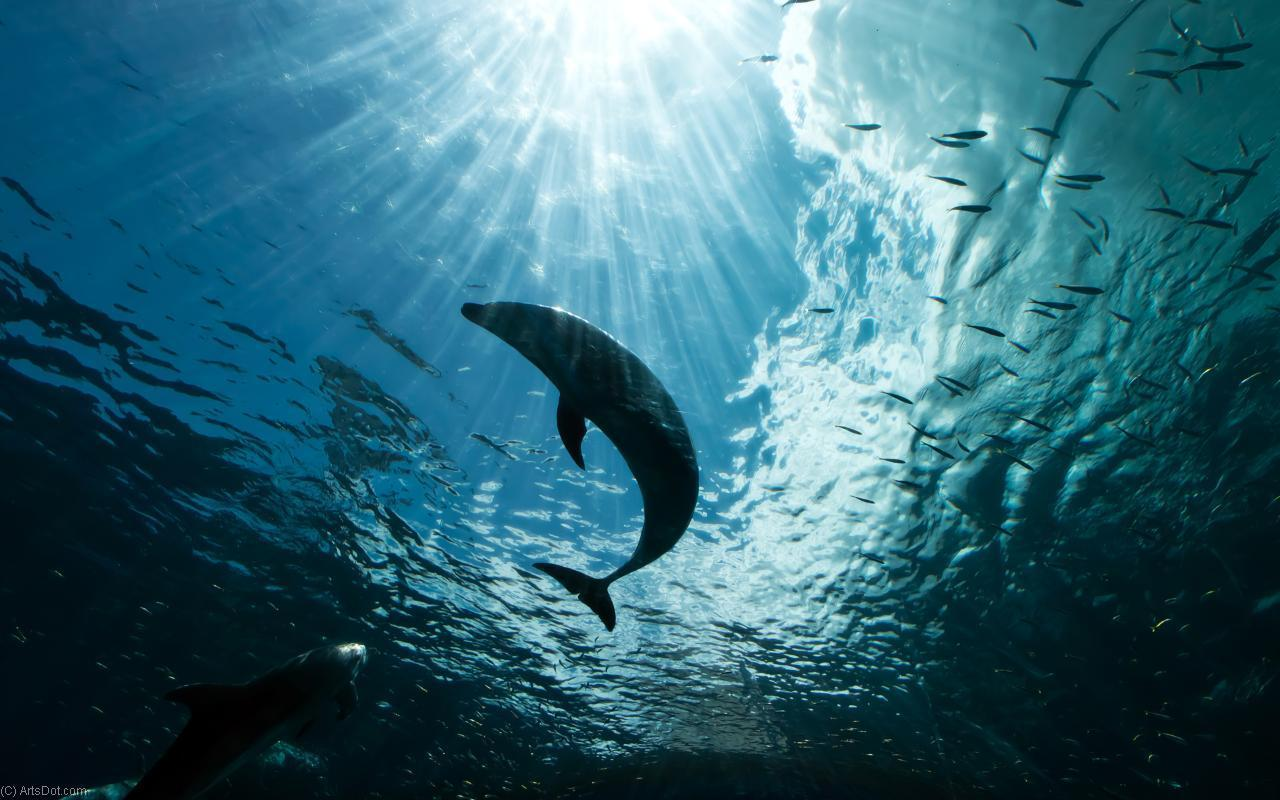fish: (455, 299, 713, 625)
